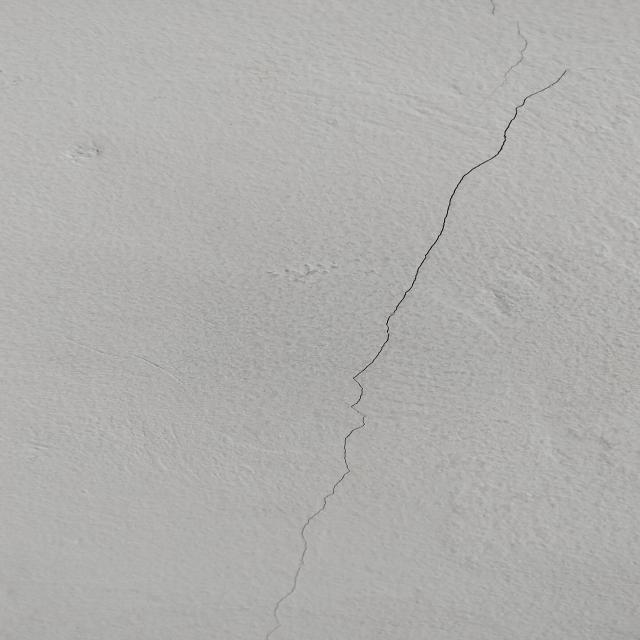Crack: (310, 67, 640, 640)
